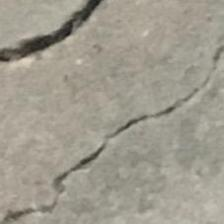Crack: (0, 0, 213, 205)
